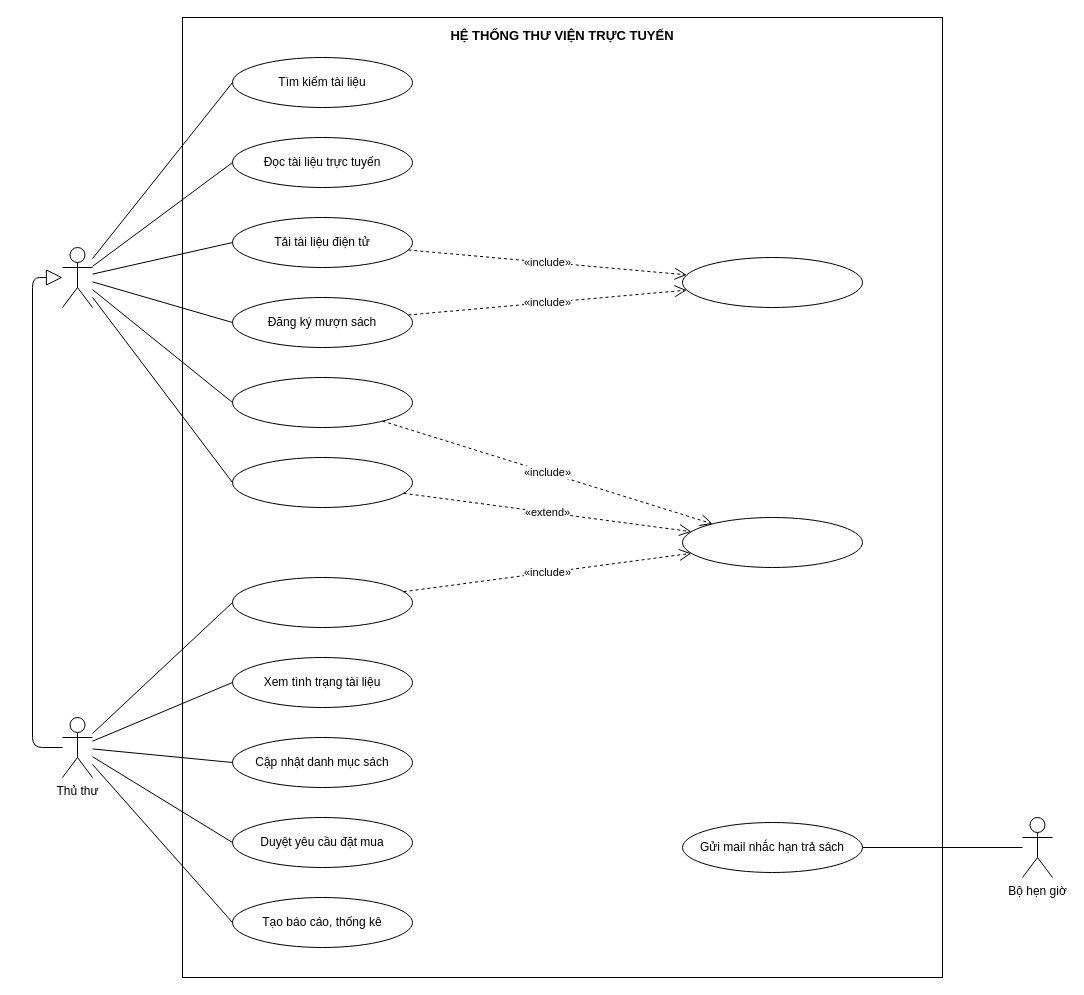
This 1084x995 diagram has some shape labels left out. Here are the shapes that lost their labels. From the top down, the centre of each, then its label:
the point at 77,277: Độc giả
the point at 772,282: Nhập mã thẻ thư viện
the point at 322,402: Đặt mua tài liệu điện tử
the point at 322,482: Đăng ký tài khoản
the point at 772,542: Đăng nhập
the point at 322,602: Quản lý mượn - trả sách
